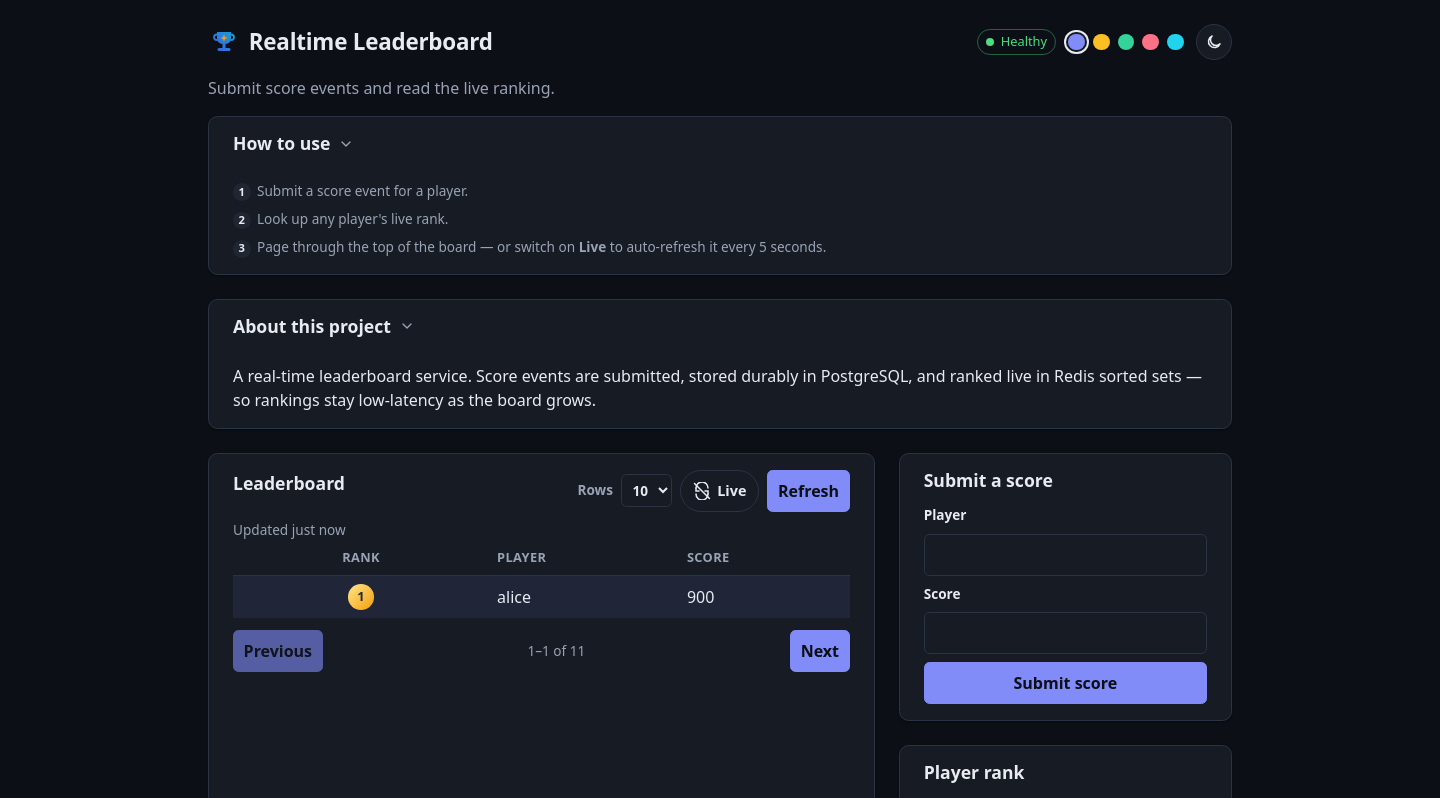
Scenario: App › syncs paging into the URL when the user pages
This screenshot has width=1440, height=798.
Check: the text "alice" is shown, box [489,576,679,618]
Step 1. Click the button "Next" → (820, 651), box [790,630,850,672]
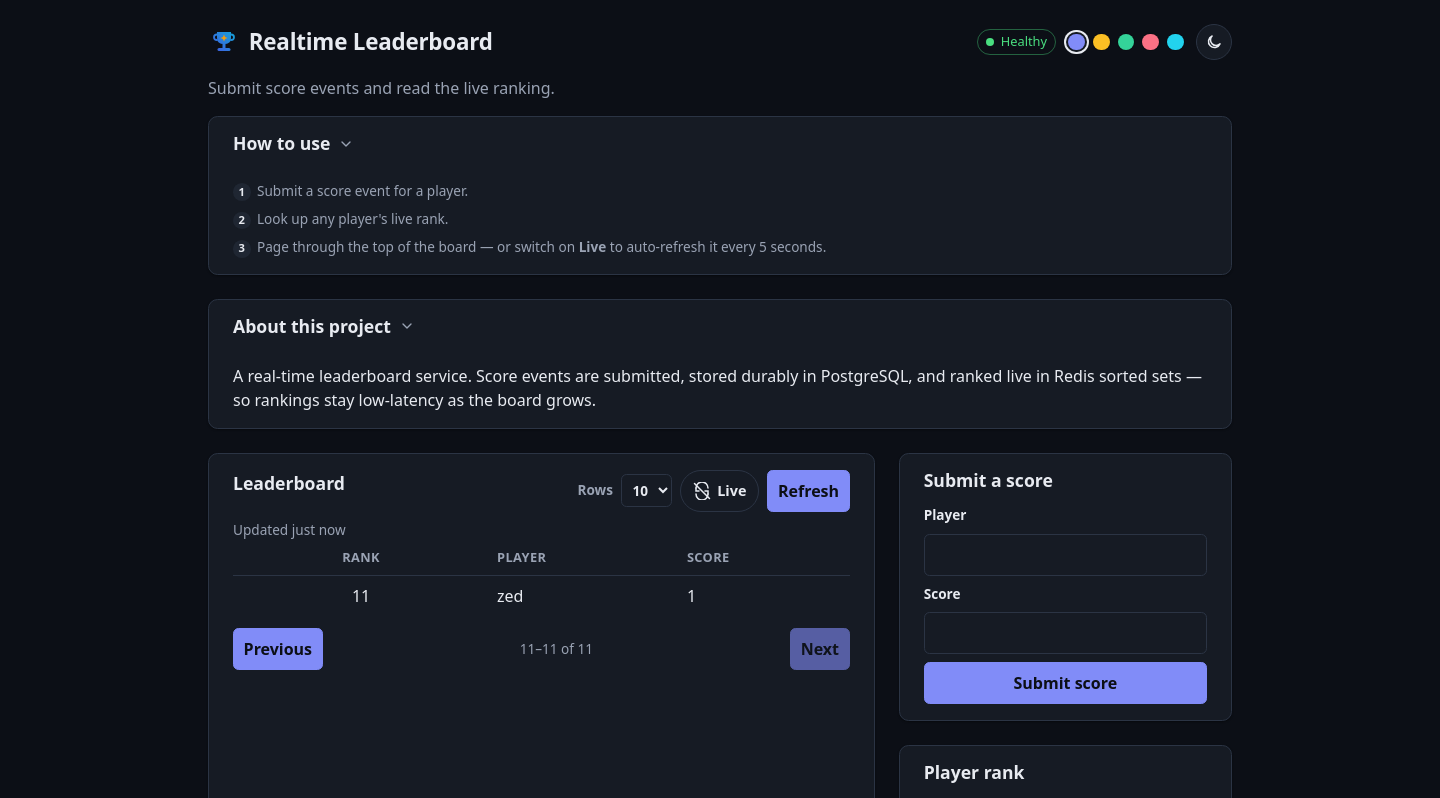
Check: the text "zed" is shown, box [489,576,679,616]
